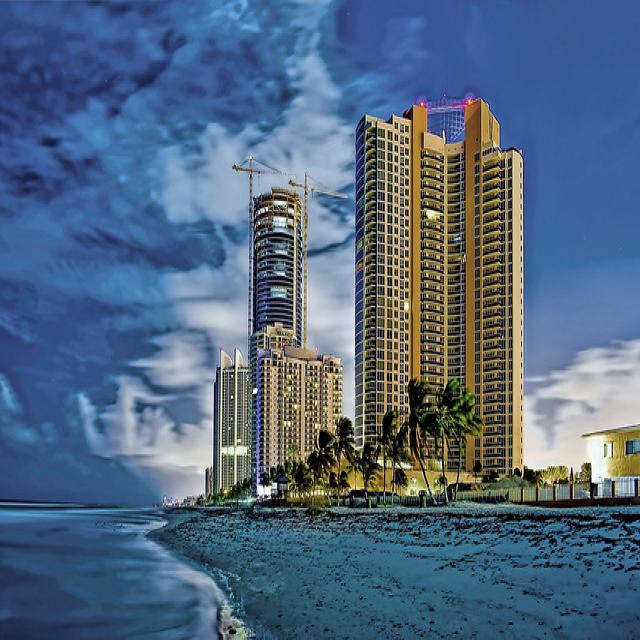building: (349, 87, 526, 489), (248, 180, 346, 487)
